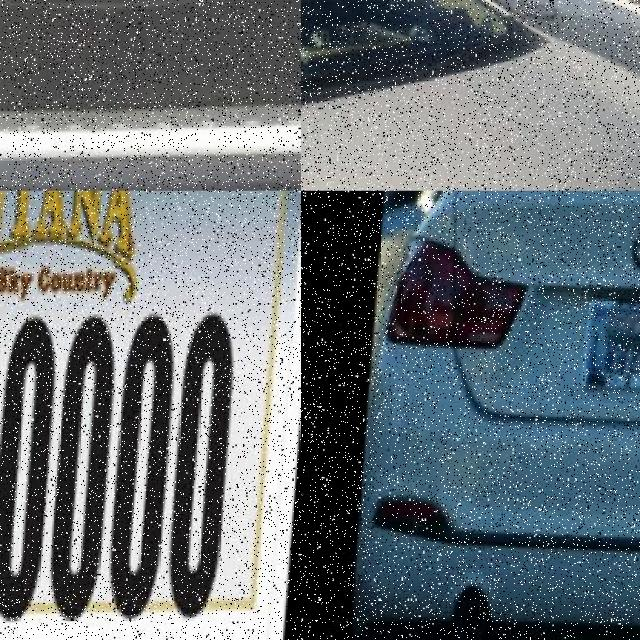licenseplate: (0, 274, 266, 640), (577, 291, 640, 414)
